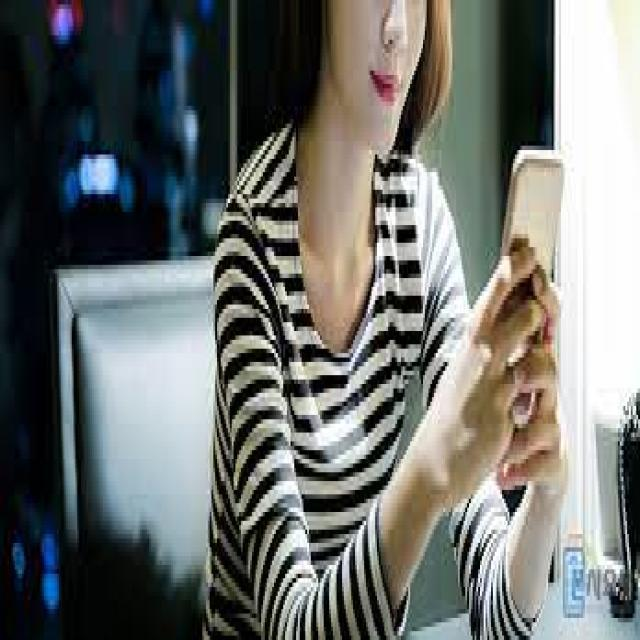Phone: (498, 144, 568, 275)
